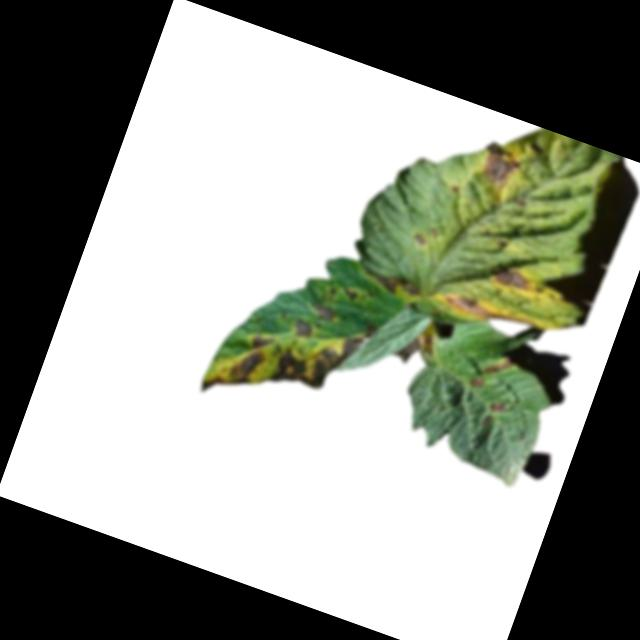Early_blight: (196, 285, 380, 445), (441, 289, 540, 341), (475, 138, 527, 195), (389, 323, 435, 374), (369, 267, 421, 305), (490, 261, 543, 296), (484, 353, 516, 383), (310, 300, 340, 325), (289, 316, 317, 342), (410, 228, 432, 250), (488, 398, 509, 418), (467, 374, 486, 393), (320, 284, 338, 303), (341, 286, 359, 303)
